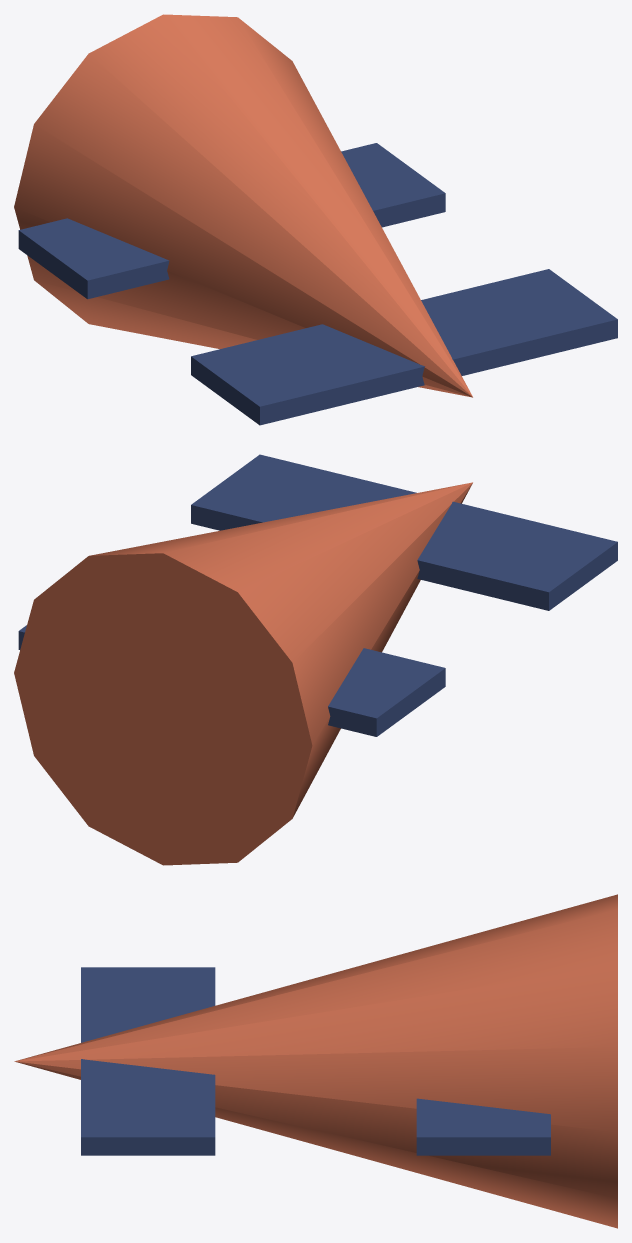
Rendered from craft.glb.
3 renders of one model, top to bottom at view 1: azimuth 30°, elevation 25°; view 2: azimuth 150°, elevation 25°; view 3: azimuth 270°, elevation 25°, orthographic. The views are drawn at different scales.
Bounding box in the file's own units: 0.6 × 0.5 × 0.9.
